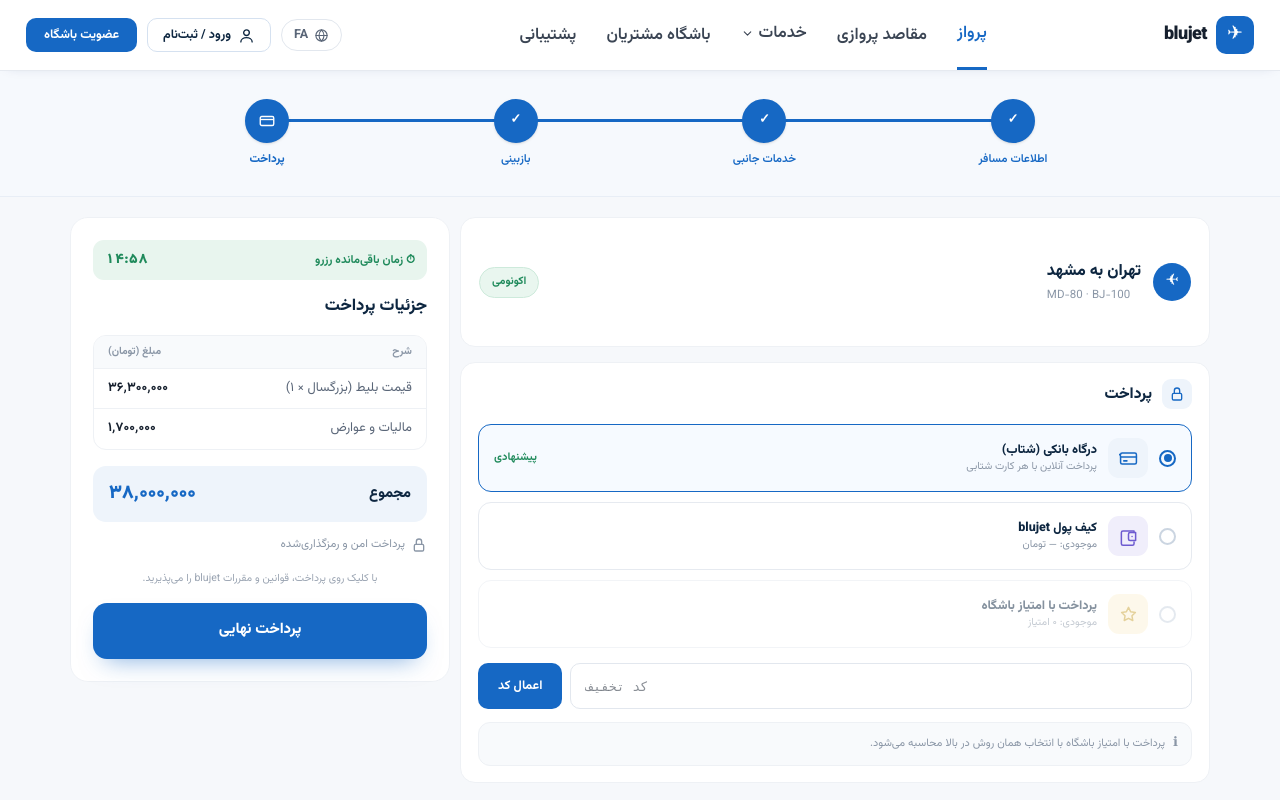
PaymentPage › shows the re-price confirmation UI when the price changed
Click the button with test id "pay-submit".
click(260, 631)  # box [93,603,427,659]
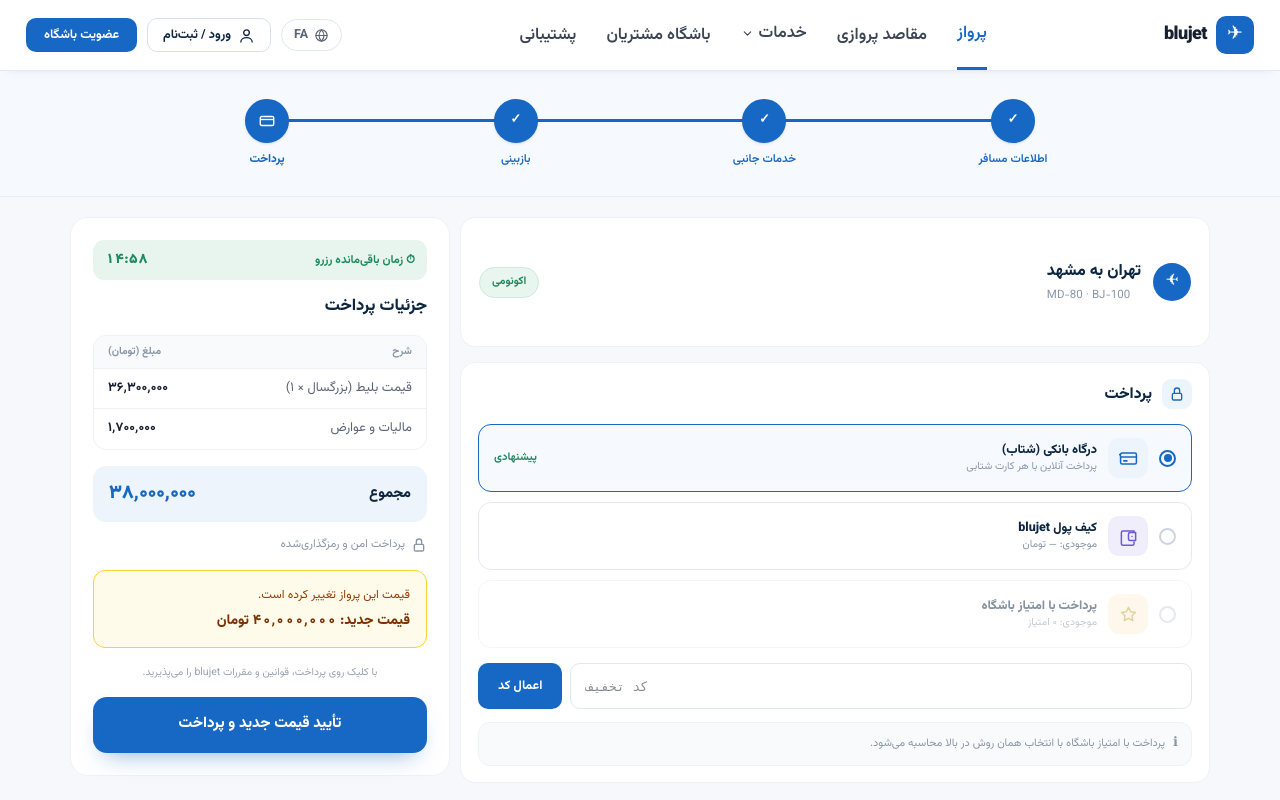
Expected: the button with test id "confirm-new-price" is shown, [93,697,427,753]
Expected: the text "قیمت این پرواز تغییر کرده است." is shown, [258,586,410,604]
